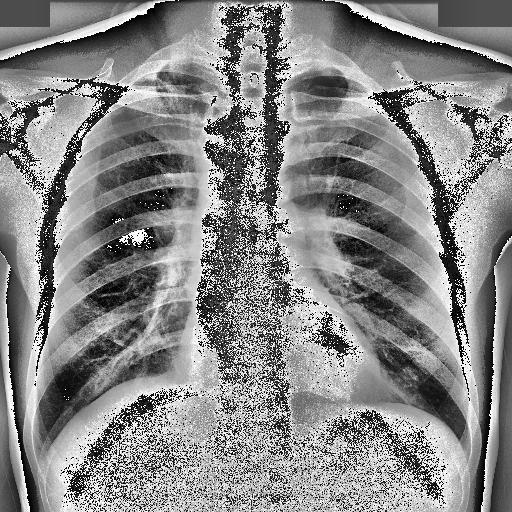11- Pleural thickening: (134, 56, 166, 84), (134, 68, 164, 84), (140, 70, 164, 82)
13- Pulmonary fibrosis: (148, 70, 200, 138), (164, 63, 198, 137), (156, 76, 194, 112)
